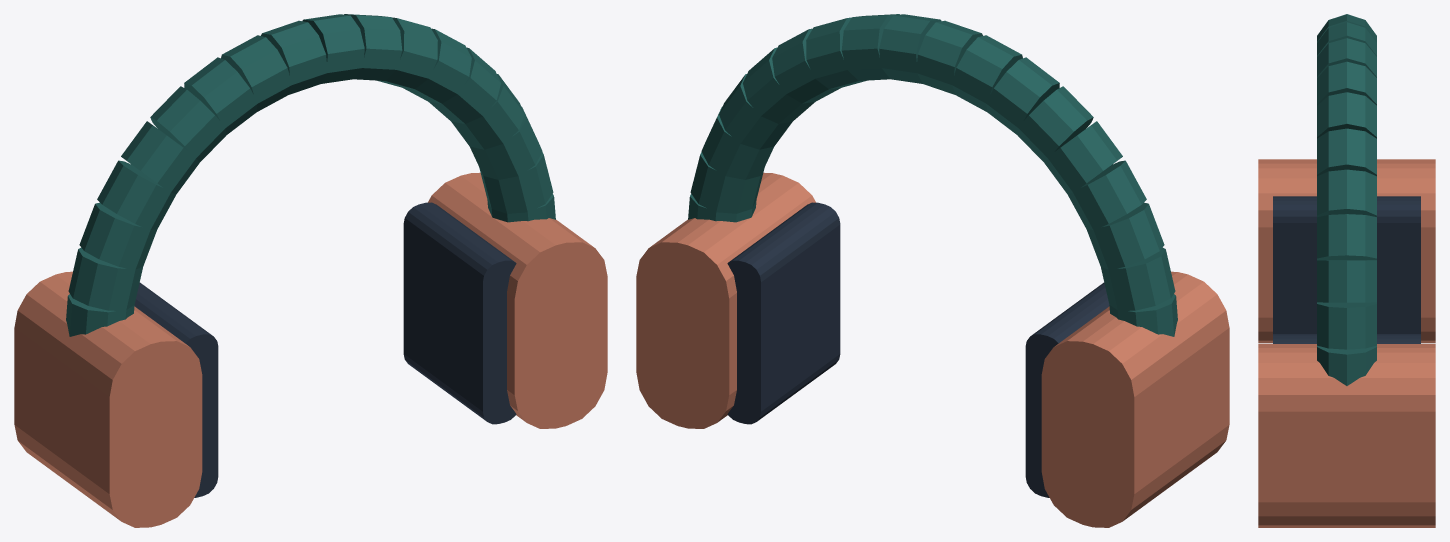
Rendered from headphones.glb.
The picture shows the model from 3 angles, left to right: view 1: azimuth 30°, elevation 25°; view 2: azimuth 150°, elevation 25°; view 3: azimuth 270°, elevation 25°; orthographic projection. The views are drawn at different scales.
Visible parts, largest first — view 1: left cup, right cup, right pad, left pad, headband15, headband14, headband12, headband16, headband11, headband13, headband10, headband9 (+10 smaller); view 2: left cup, right cup, right pad, left pad, headband15, headband14, headband12, headband16, headband11, headband13, headband10, headband9 (+10 smaller); view 3: right cup, left pad, left cup, headband1, headband3, headband4, headband2, headband5, headband6, headband7, headband0, headband8 (+3 smaller).
Boxes of the visible parts, left/top/right/bottom form: left cup: left=14, top=271, right=202, bottom=527; right cup: left=428, top=172, right=607, bottom=428; right pad: left=403, top=202, right=516, bottom=424; left pad: left=134, top=282, right=218, bottom=497; headband15: left=79, top=202, right=156, bottom=269; headband14: left=97, top=160, right=176, bottom=230; headband12: left=150, top=86, right=226, bottom=162; headband16: left=68, top=247, right=142, bottom=310; headband11: left=184, top=57, right=257, bottom=134; headband13: left=121, top=121, right=199, bottom=194; headband10: left=221, top=35, right=292, bottom=111; headband9: left=261, top=20, right=327, bottom=94; left cup: left=1041, top=271, right=1229, bottom=527; right cup: left=636, top=172, right=815, bottom=428; right pad: left=727, top=202, right=840, bottom=424; left pad: left=1025, top=282, right=1109, bottom=497; headband15: left=1087, top=202, right=1164, bottom=270; headband14: left=1067, top=160, right=1146, bottom=230; headband12: left=1017, top=86, right=1093, bottom=162; headband16: left=1101, top=247, right=1175, bottom=310; headband11: left=986, top=57, right=1059, bottom=134; headband13: left=1044, top=121, right=1122, bottom=194; headband10: left=951, top=35, right=1022, bottom=111; headband9: left=917, top=20, right=982, bottom=94; right cup: left=1258, top=344, right=1435, bottom=527; left pad: left=1273, top=196, right=1420, bottom=333; left cup: left=1258, top=159, right=1435, bottom=343; headband1: left=1317, top=302, right=1376, bottom=349; headband3: left=1317, top=214, right=1376, bottom=259; headband4: left=1317, top=169, right=1376, bottom=216; headband2: left=1317, top=260, right=1376, bottom=302; headband5: left=1317, top=128, right=1376, bottom=176; headband6: left=1317, top=92, right=1376, bottom=138; headband7: left=1317, top=61, right=1376, bottom=105; headband0: left=1317, top=345, right=1376, bottom=385; headband8: left=1317, top=38, right=1376, bottom=77.
Bounding box in the file's own units: 1.45 × 1.17 × 0.48.
